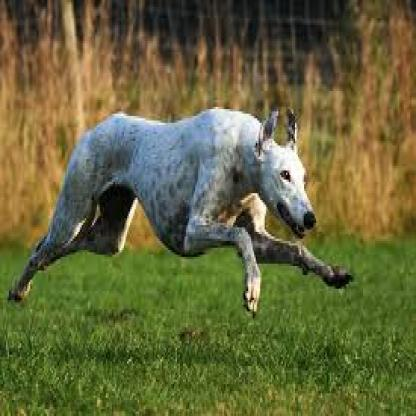Greyhound: (7, 99, 356, 314)
